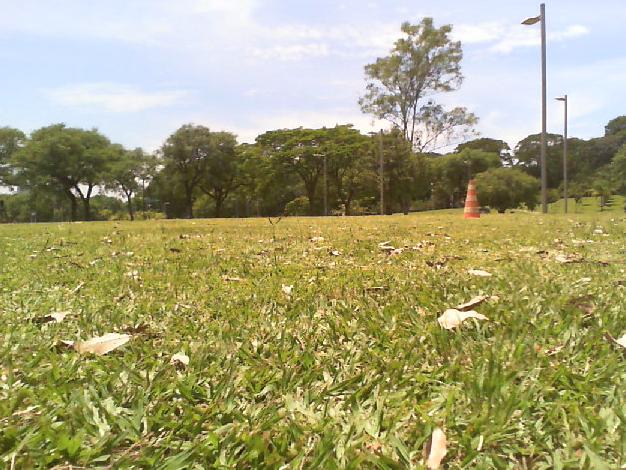0 cone: (463, 180, 482, 219)
